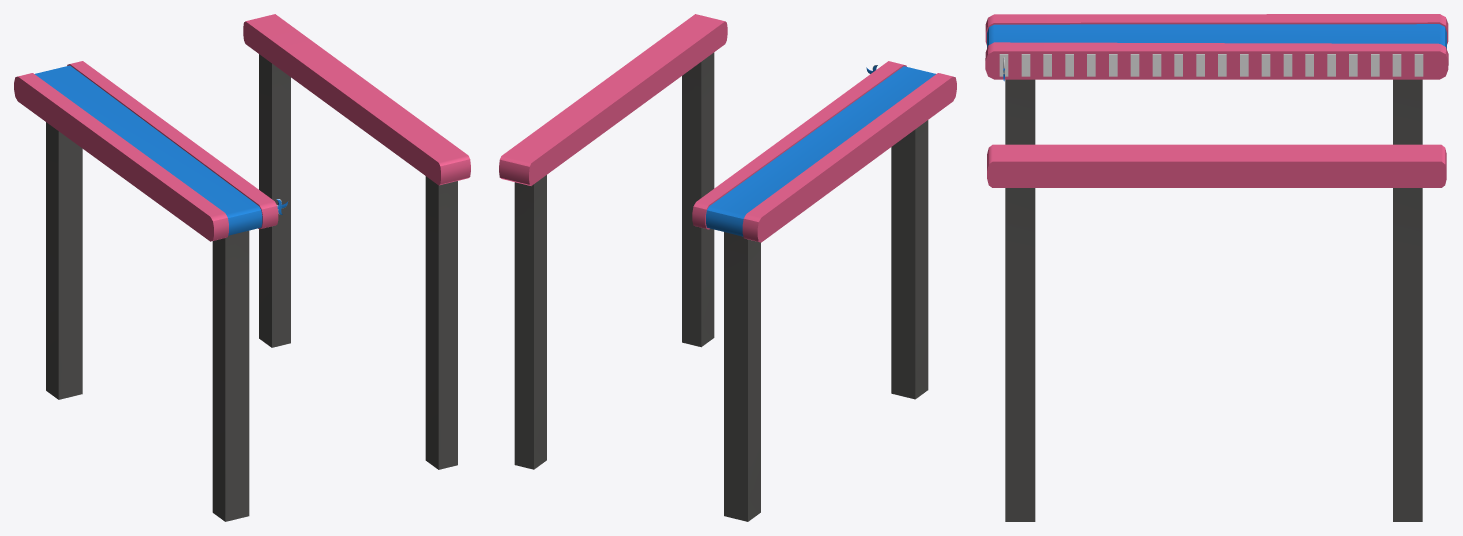
File: trap_05.fbx
3 views of the same model, side by side, from view 1: azimuth 30°, elevation 25°; view 2: azimuth 150°, elevation 25°; view 3: azimuth 270°, elevation 25° (orthographic). The views are drawn at different scales.
Parts seen in each view (by area): view 1: trap_05; view 2: trap_05; view 3: trap_05.
Part boxes in pixels (left/top/right/bottom): trap_05: left=14, top=14, right=470, bottom=521; trap_05: left=499, top=14, right=956, bottom=521; trap_05: left=985, top=14, right=1448, bottom=521.
Size of the model in its own units: 2221 by 2579 by 2970.
